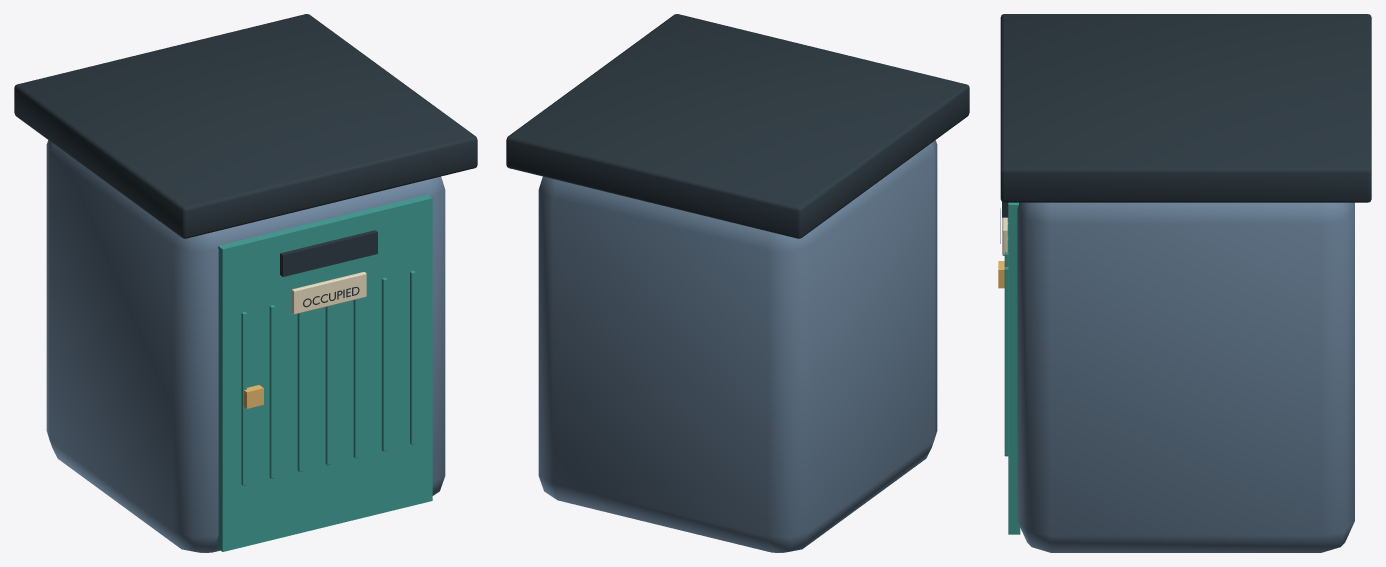
The model's file is AH03_PortaPotty.fbx.
The picture shows the model from 3 angles, left to right: view 1: azimuth 30°, elevation 25°; view 2: azimuth 150°, elevation 25°; view 3: azimuth 270°, elevation 25°; orthographic projection. The views are drawn at different scales.
Visible parts, largest first — view 1: AH03_PortaPotty_AH03_Dark, AH03_PortaPotty_AH03_Blue, AH03_PortaPotty_AH03_Mint, AH03_PortaPotty_AH03_Cream; view 2: AH03_PortaPotty_AH03_Blue, AH03_PortaPotty_AH03_Dark; view 3: AH03_PortaPotty_AH03_Blue, AH03_PortaPotty_AH03_Dark, AH03_PortaPotty_AH03_Mint.
Part boxes in pixels (bbox=[...]): AH03_PortaPotty_AH03_Dark: bbox=[14, 14, 477, 307]; AH03_PortaPotty_AH03_Blue: bbox=[46, 140, 445, 552]; AH03_PortaPotty_AH03_Mint: bbox=[217, 194, 432, 551]; AH03_PortaPotty_AH03_Cream: bbox=[291, 272, 366, 314]; AH03_PortaPotty_AH03_Blue: bbox=[538, 140, 937, 552]; AH03_PortaPotty_AH03_Dark: bbox=[506, 14, 969, 238]; AH03_PortaPotty_AH03_Blue: bbox=[1017, 202, 1354, 552]; AH03_PortaPotty_AH03_Dark: bbox=[1000, 14, 1371, 243]; AH03_PortaPotty_AH03_Mint: bbox=[1004, 202, 1020, 534].
Bounding box in the file's own units: 242 × 291 × 244.
